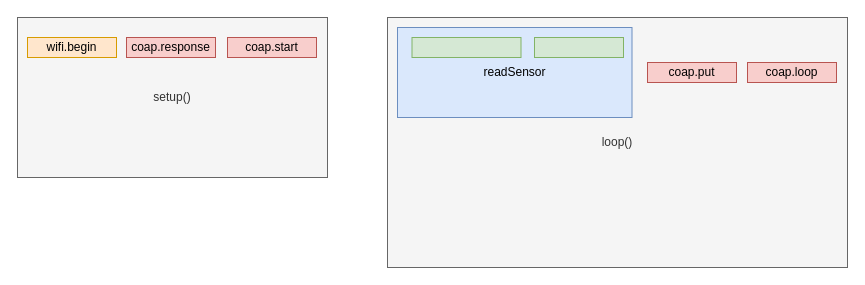
Image size: 865x285. Some labels were removed from this diagram. Each missing label, with the centre of its shape:
"readHumidity" goes at (x=579, y=47).
"readTemperature" goes at (x=466, y=47).
